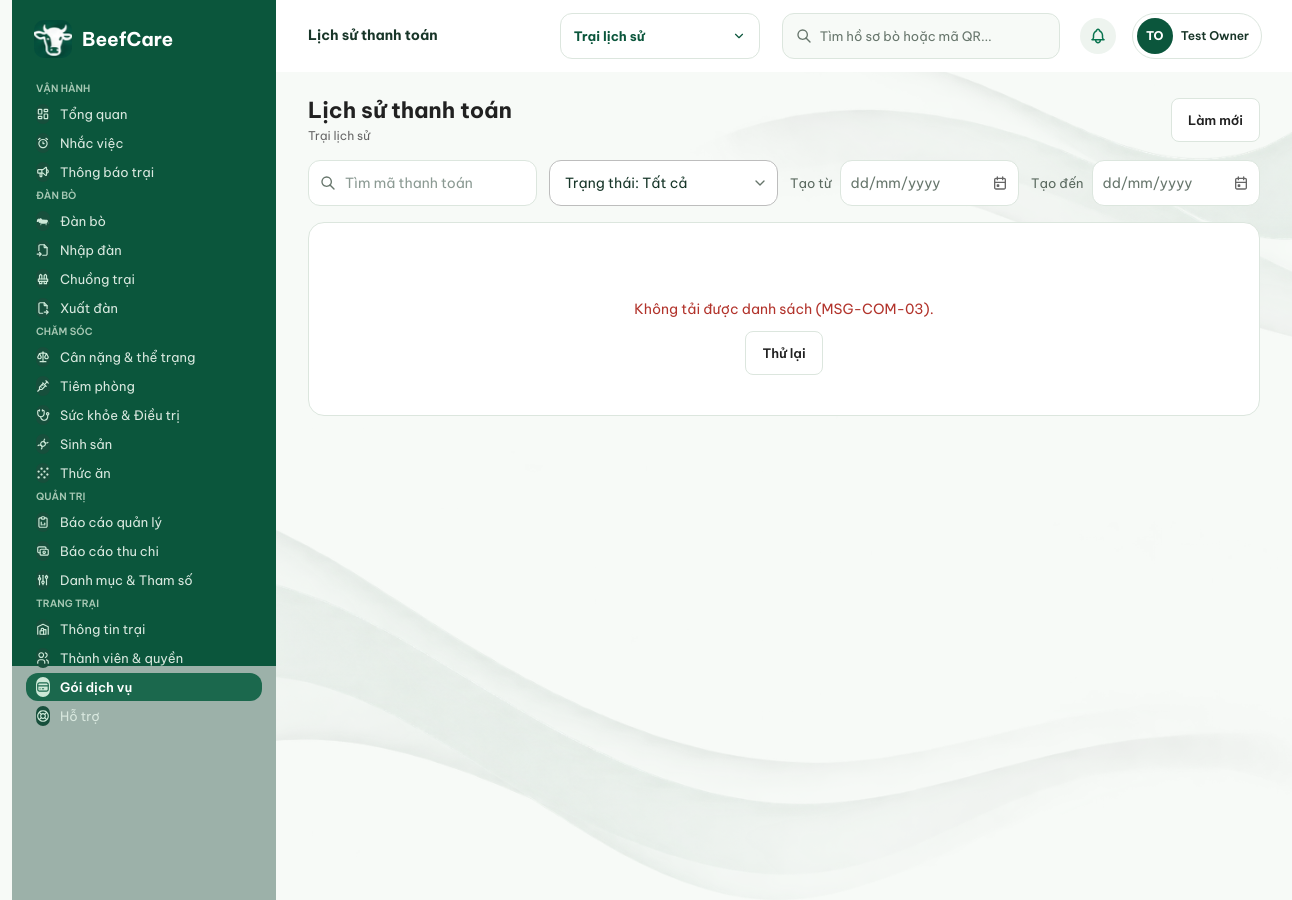
Scenario: UC3 backend history contract › handles list failure/retry, malformed responses and empty filtered results without demo data
Expected: the text "Không tải được danh sách (MSG-COM-03)." is shown, [634,299,934,319]
Click the button "Thử lại": (784, 353) [745,331,823,375]
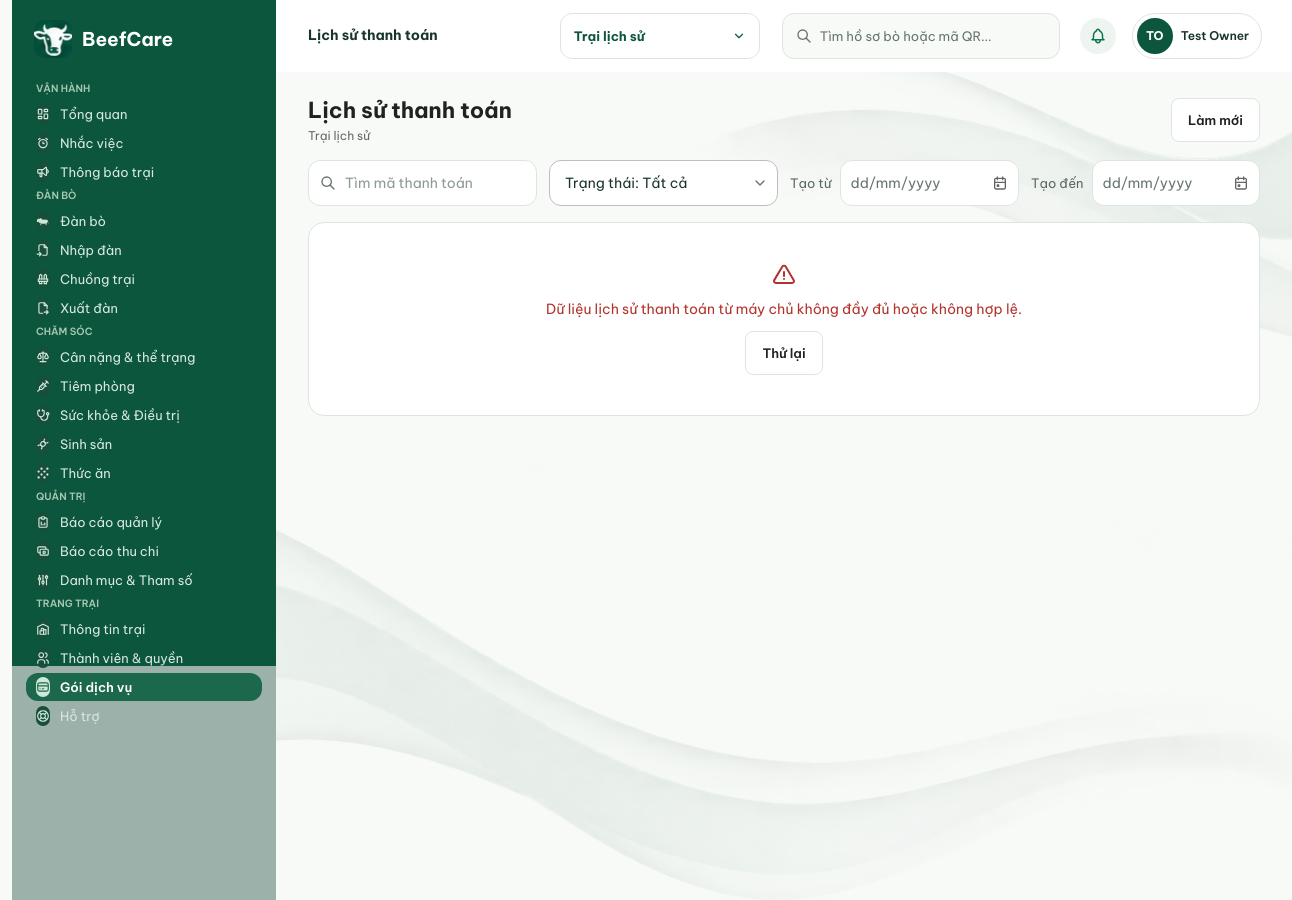
Click the button "Thử lại": (784, 353) [745,331,823,375]
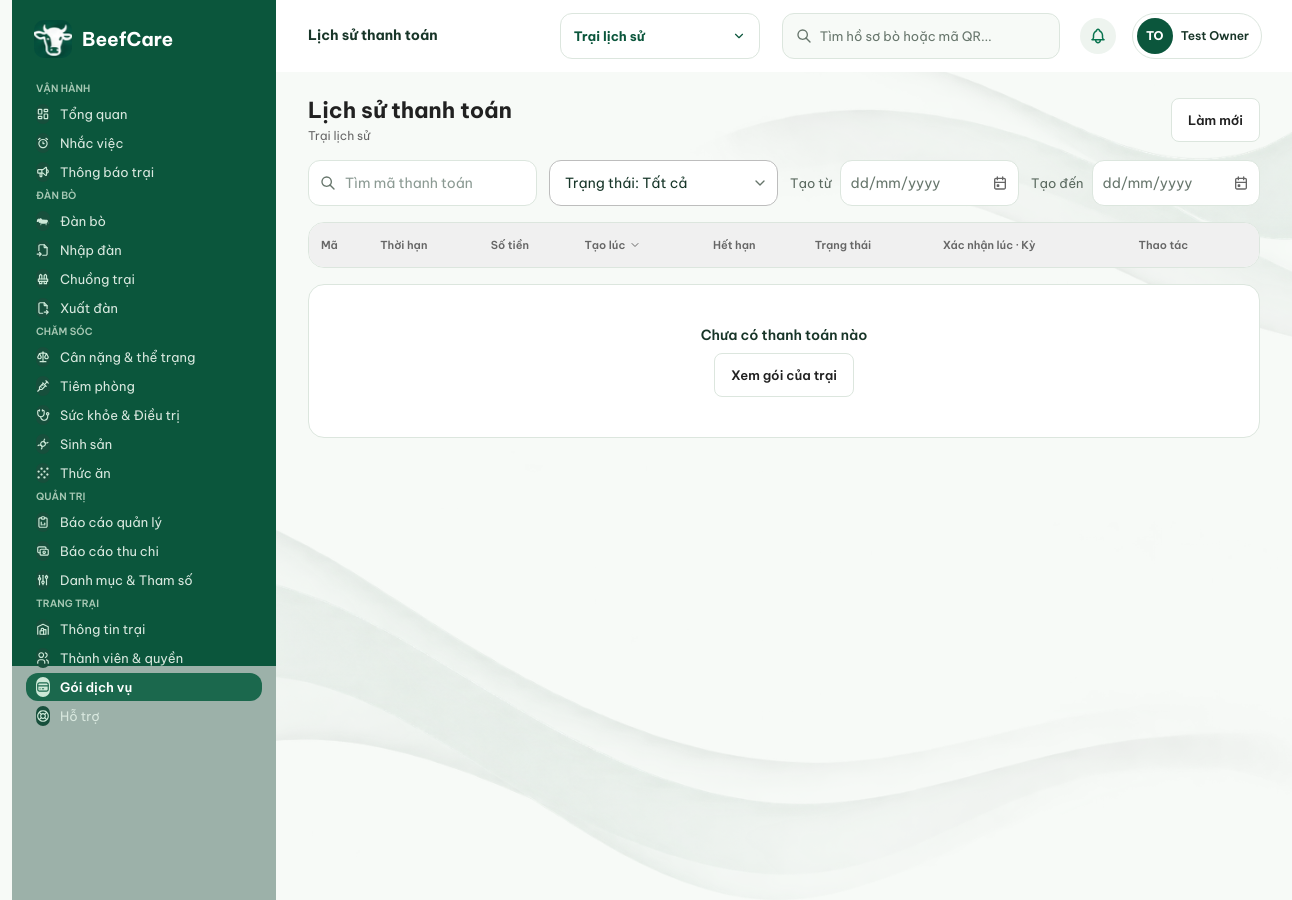
Now the text "Chưa có thanh toán nào" is shown, box [701,325,867,345]
In the search field labelled "Tìm mã thanh toán": (422, 183) [308,160,537,206], type "NONE"
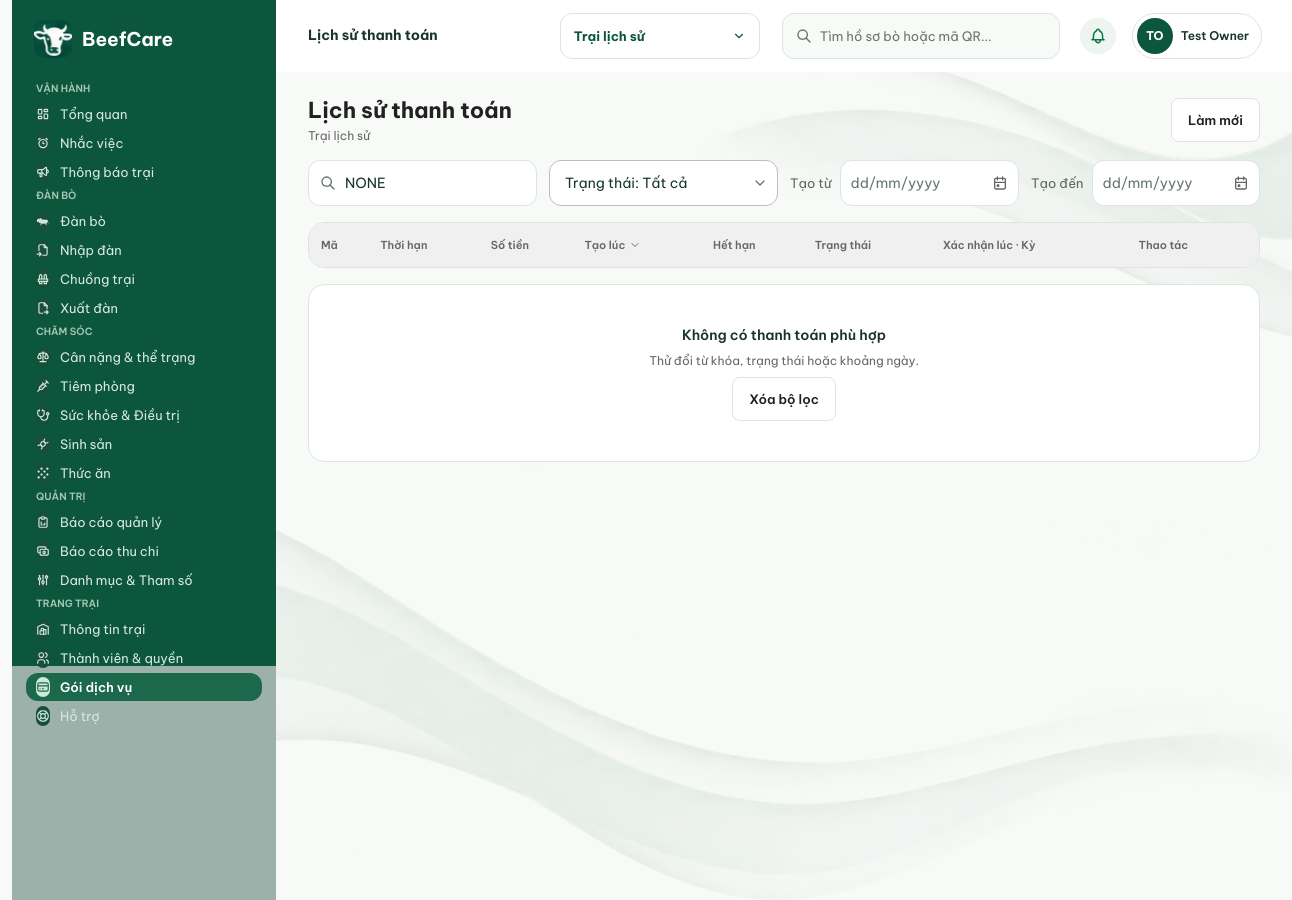
Now the text "Không có thanh toán phù hợp" is shown, box [682,325,886,345]
Now the button "Xóa bộ lọc" is shown, box [732,377,836,421]
